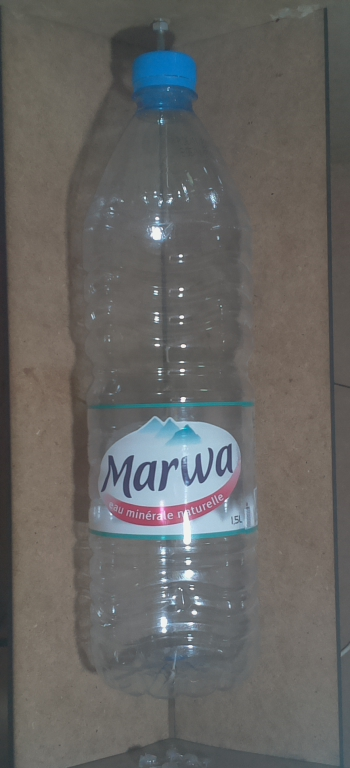Bouteille_1.5L: (70, 43, 273, 705)
